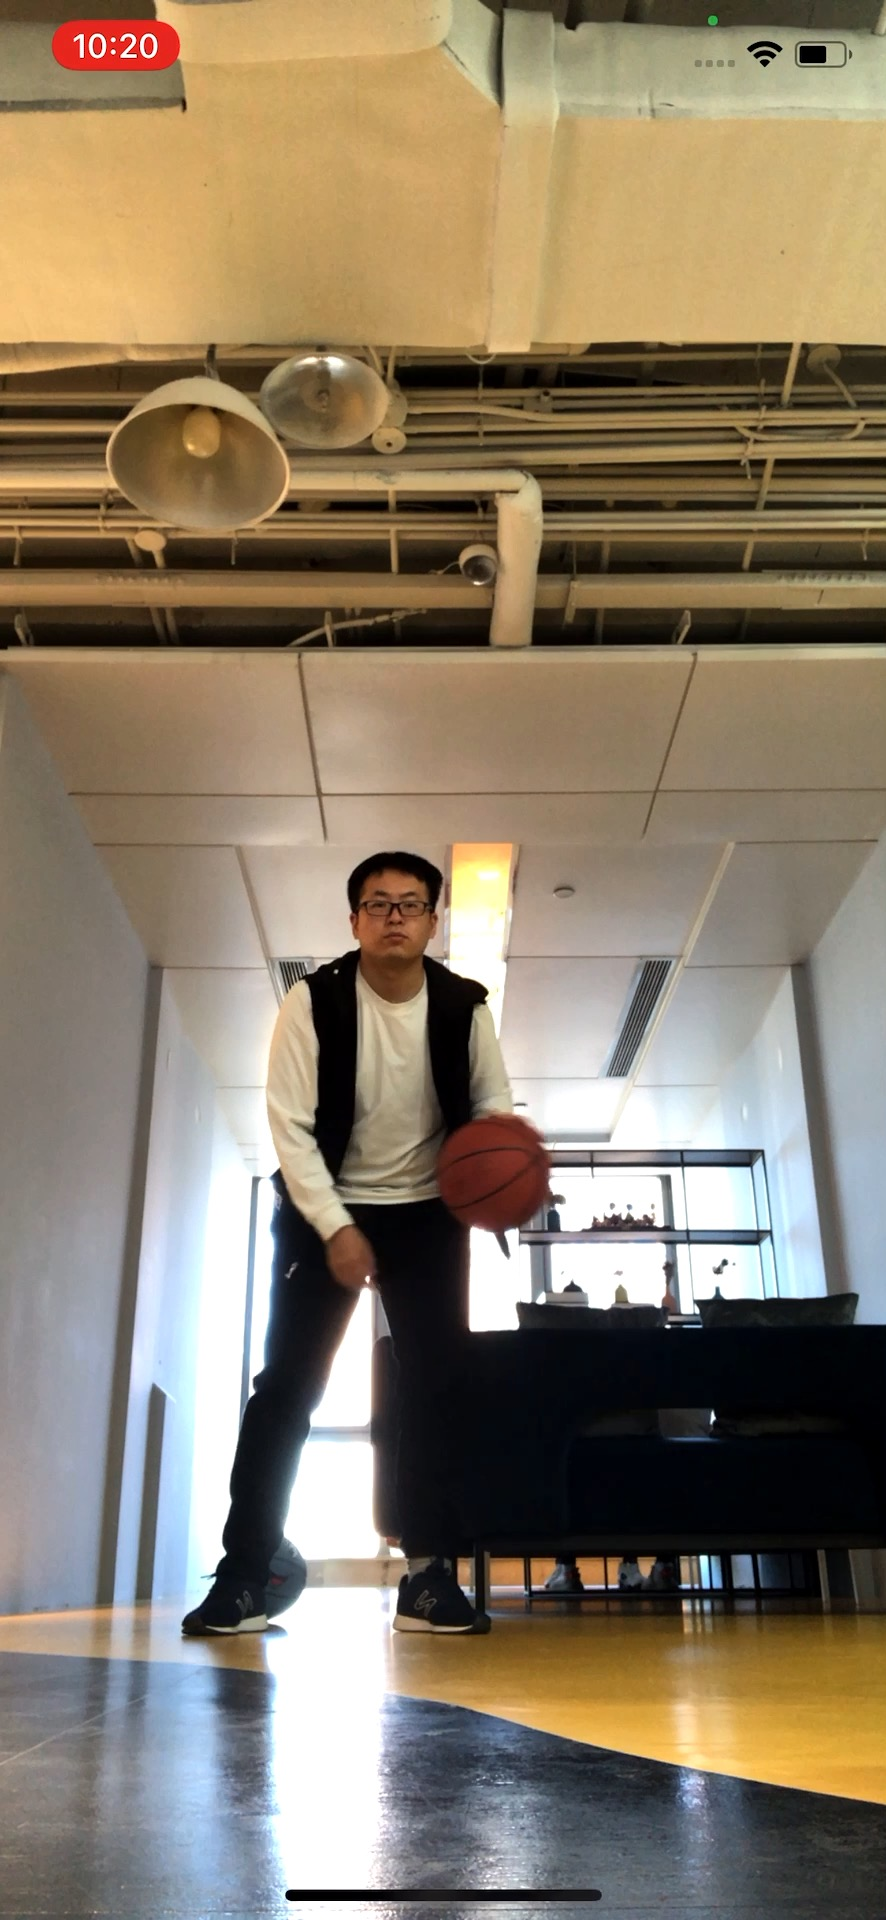ball: (439, 1114, 551, 1236)
